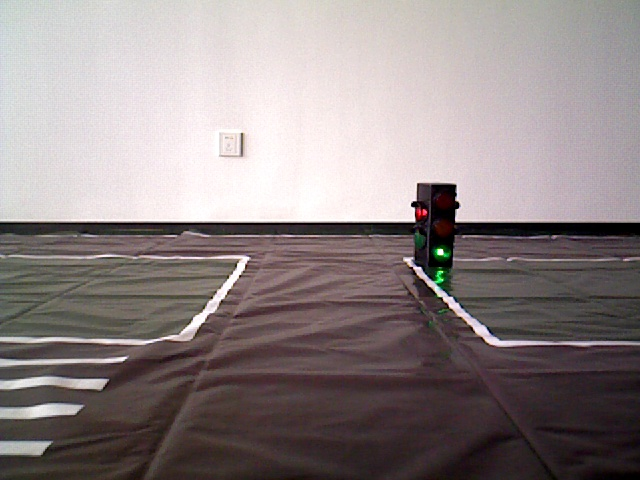green: (412, 183, 452, 264)
